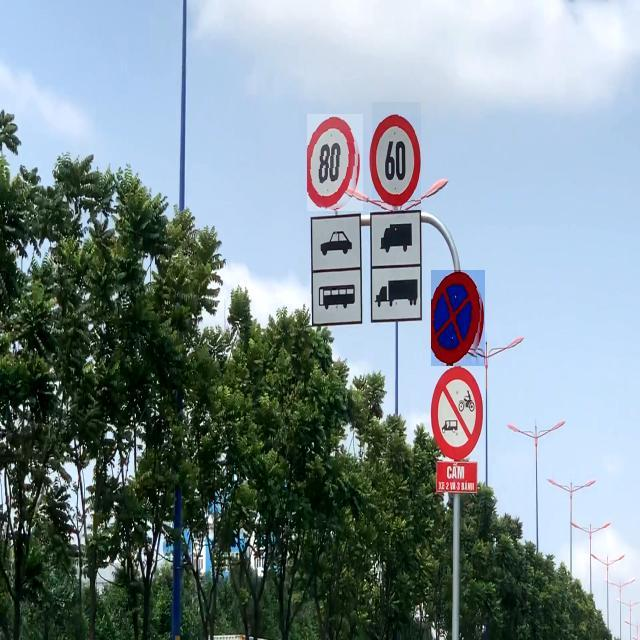P-127: (308, 114, 364, 211), (372, 102, 421, 210)
P-130: (431, 270, 485, 366)
